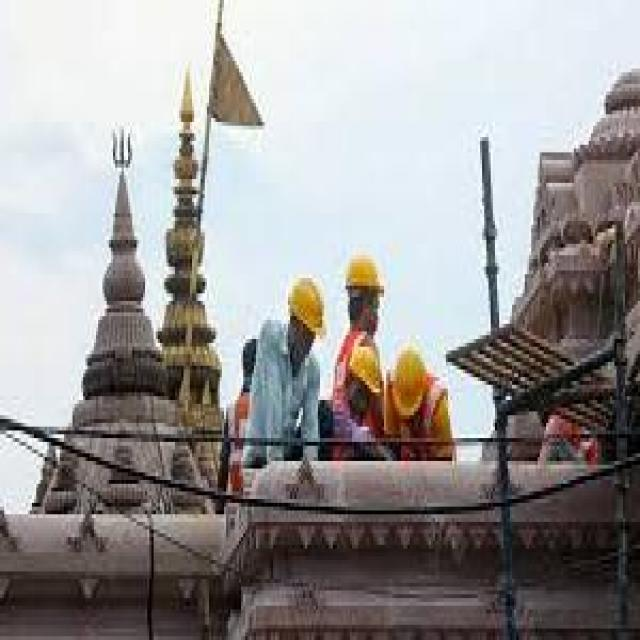Reflective-Jacket: (329, 320, 388, 423)
Safety-Helmet: (386, 336, 435, 430), (279, 266, 333, 351), (337, 240, 395, 312)
